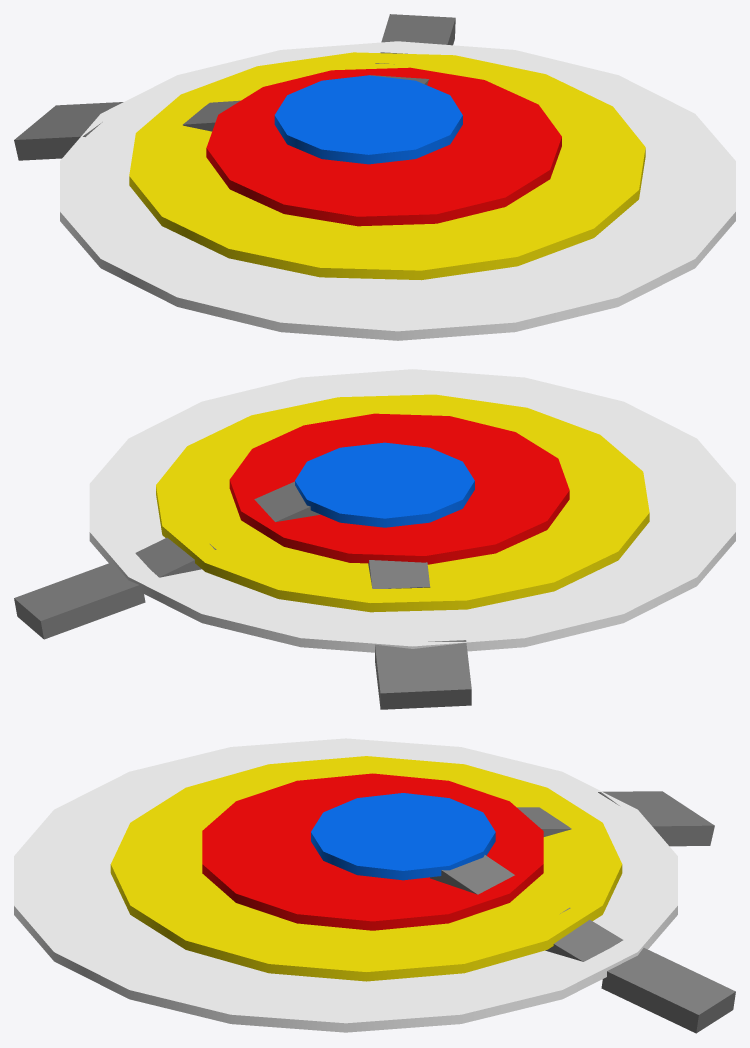
Rendered from AssetsPlanos con rampas.fbx.
3 views of the same model, one above another, from view 1: azimuth 30°, elevation 25°; view 2: azimuth 150°, elevation 25°; view 3: azimuth 270°, elevation 25° (orthographic). The views are drawn at different scales.
Parts seen in each view (by area): view 1: Plano003, Plano002, Plano001, Plano, Cube__4_, Cube__2_, Cube__3_; view 2: Plano003, Plano002, Plano001, Plano, Cube__4_, Cube__2_, Cube__3_, Cube__1_, Cube; view 3: Plano003, Plano002, Plano001, Plano, Cube__2_, Cube__4_, Cube__1_, Cube, Cube__3_.
Part boxes in pixels (bbox=[...]): Plano003: bbox=[60, 41, 735, 340]; Plano002: bbox=[129, 52, 645, 280]; Plano001: bbox=[206, 67, 561, 226]; Plano: bbox=[274, 75, 462, 164]; Cube__4_: bbox=[14, 102, 123, 160]; Cube__2_: bbox=[381, 14, 455, 45]; Cube__3_: bbox=[183, 100, 240, 131]; Plano003: bbox=[89, 369, 735, 652]; Plano002: bbox=[156, 394, 649, 612]; Plano001: bbox=[229, 413, 569, 564]; Plano: bbox=[295, 442, 474, 527]; Cube__4_: bbox=[375, 640, 471, 709]; Cube__2_: bbox=[14, 562, 145, 639]; Cube__3_: bbox=[368, 560, 430, 588]; Cube__1_: bbox=[135, 537, 216, 577]; Cube: bbox=[254, 481, 320, 521]; Plano003: bbox=[14, 738, 677, 1032]; Plano002: bbox=[110, 756, 622, 981]; Plano001: bbox=[202, 773, 543, 930]; Plano: bbox=[311, 793, 495, 880]; Cube__2_: bbox=[601, 948, 735, 1033]; Cube__4_: bbox=[598, 791, 714, 846]; Cube__1_: bbox=[545, 907, 622, 961]; Cube: bbox=[430, 855, 514, 894]; Cube__3_: bbox=[517, 807, 571, 836].
Bounding box in the file's own units: 14279 × 2076 × 15293.
